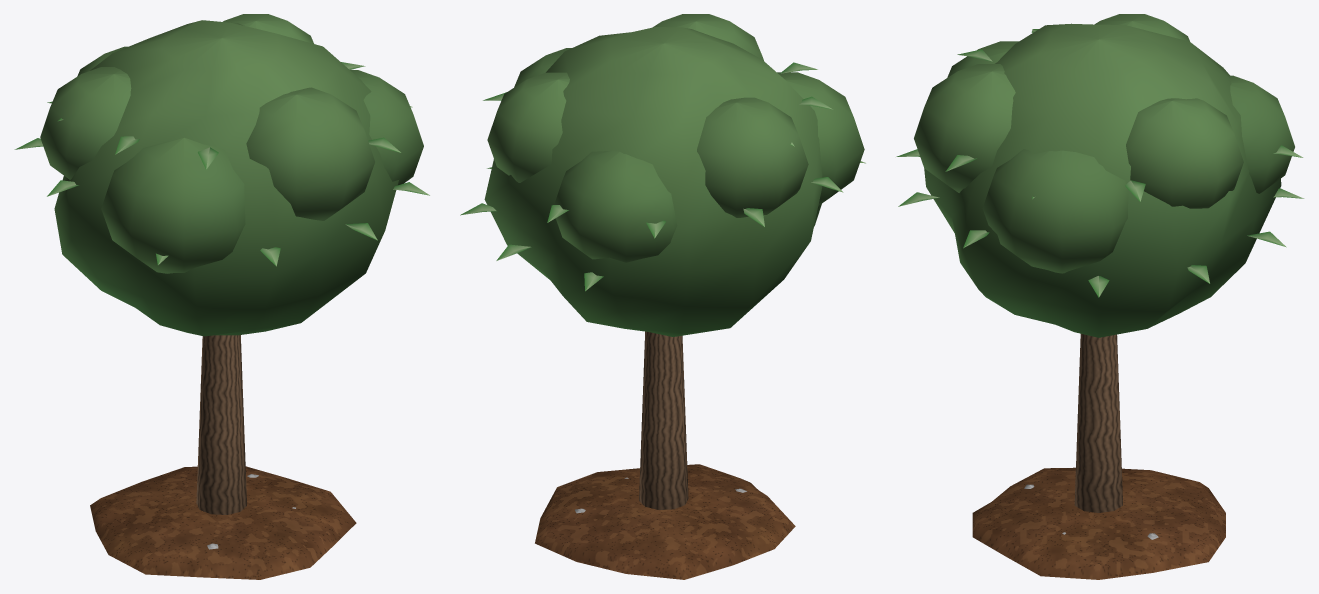
Rendered from plant-apple-3.glb.
3 views of the same model, side by side, from view 1: azimuth 30°, elevation 25°; view 2: azimuth 150°, elevation 25°; view 3: azimuth 270°, elevation 25° (orthographic). The views are drawn at different scales.
Parts seen in each view (by area): view 1: plant-apple-3; view 2: plant-apple-3; view 3: plant-apple-3.
Part boxes in pixels (bbox=[...]): plant-apple-3: bbox=[14, 14, 429, 579]; plant-apple-3: bbox=[460, 14, 865, 579]; plant-apple-3: bbox=[896, 14, 1304, 579].
Size of the model in its own units: 1.59 by 2.06 by 1.58.
5 materials, 3 textured.
